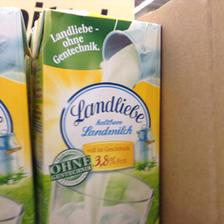Milch: (29, 6, 161, 222)
